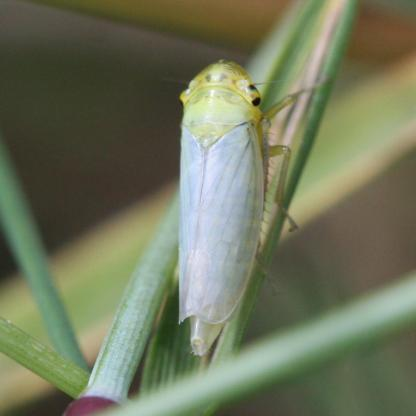Green-Leafhopper: (158, 54, 306, 366)
